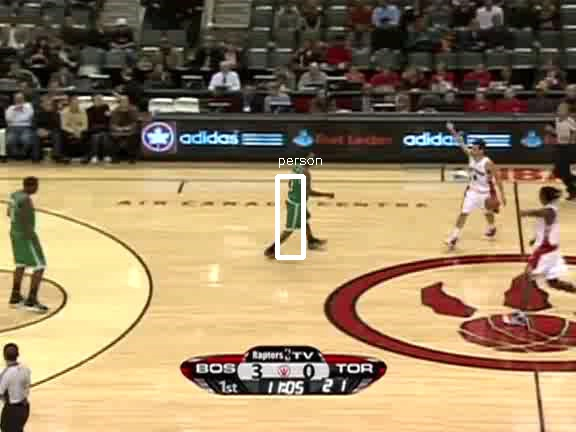person: (282, 160, 316, 241), (281, 160, 315, 241), (283, 160, 317, 241), (282, 159, 316, 240), (282, 161, 316, 242)
target_negative: (88, 196, 271, 229), (351, 284, 378, 425), (383, 355, 447, 411), (237, 392, 486, 406), (174, 356, 230, 381), (531, 231, 540, 374)
